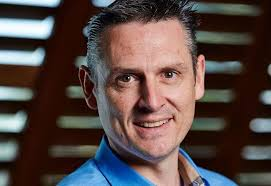middle_eastern_male: (93, 28, 200, 155)
